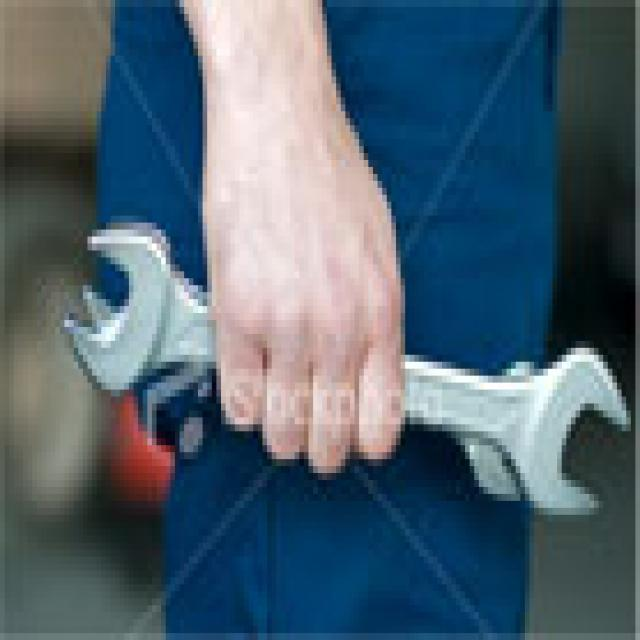wrench: (58, 216, 632, 522)
